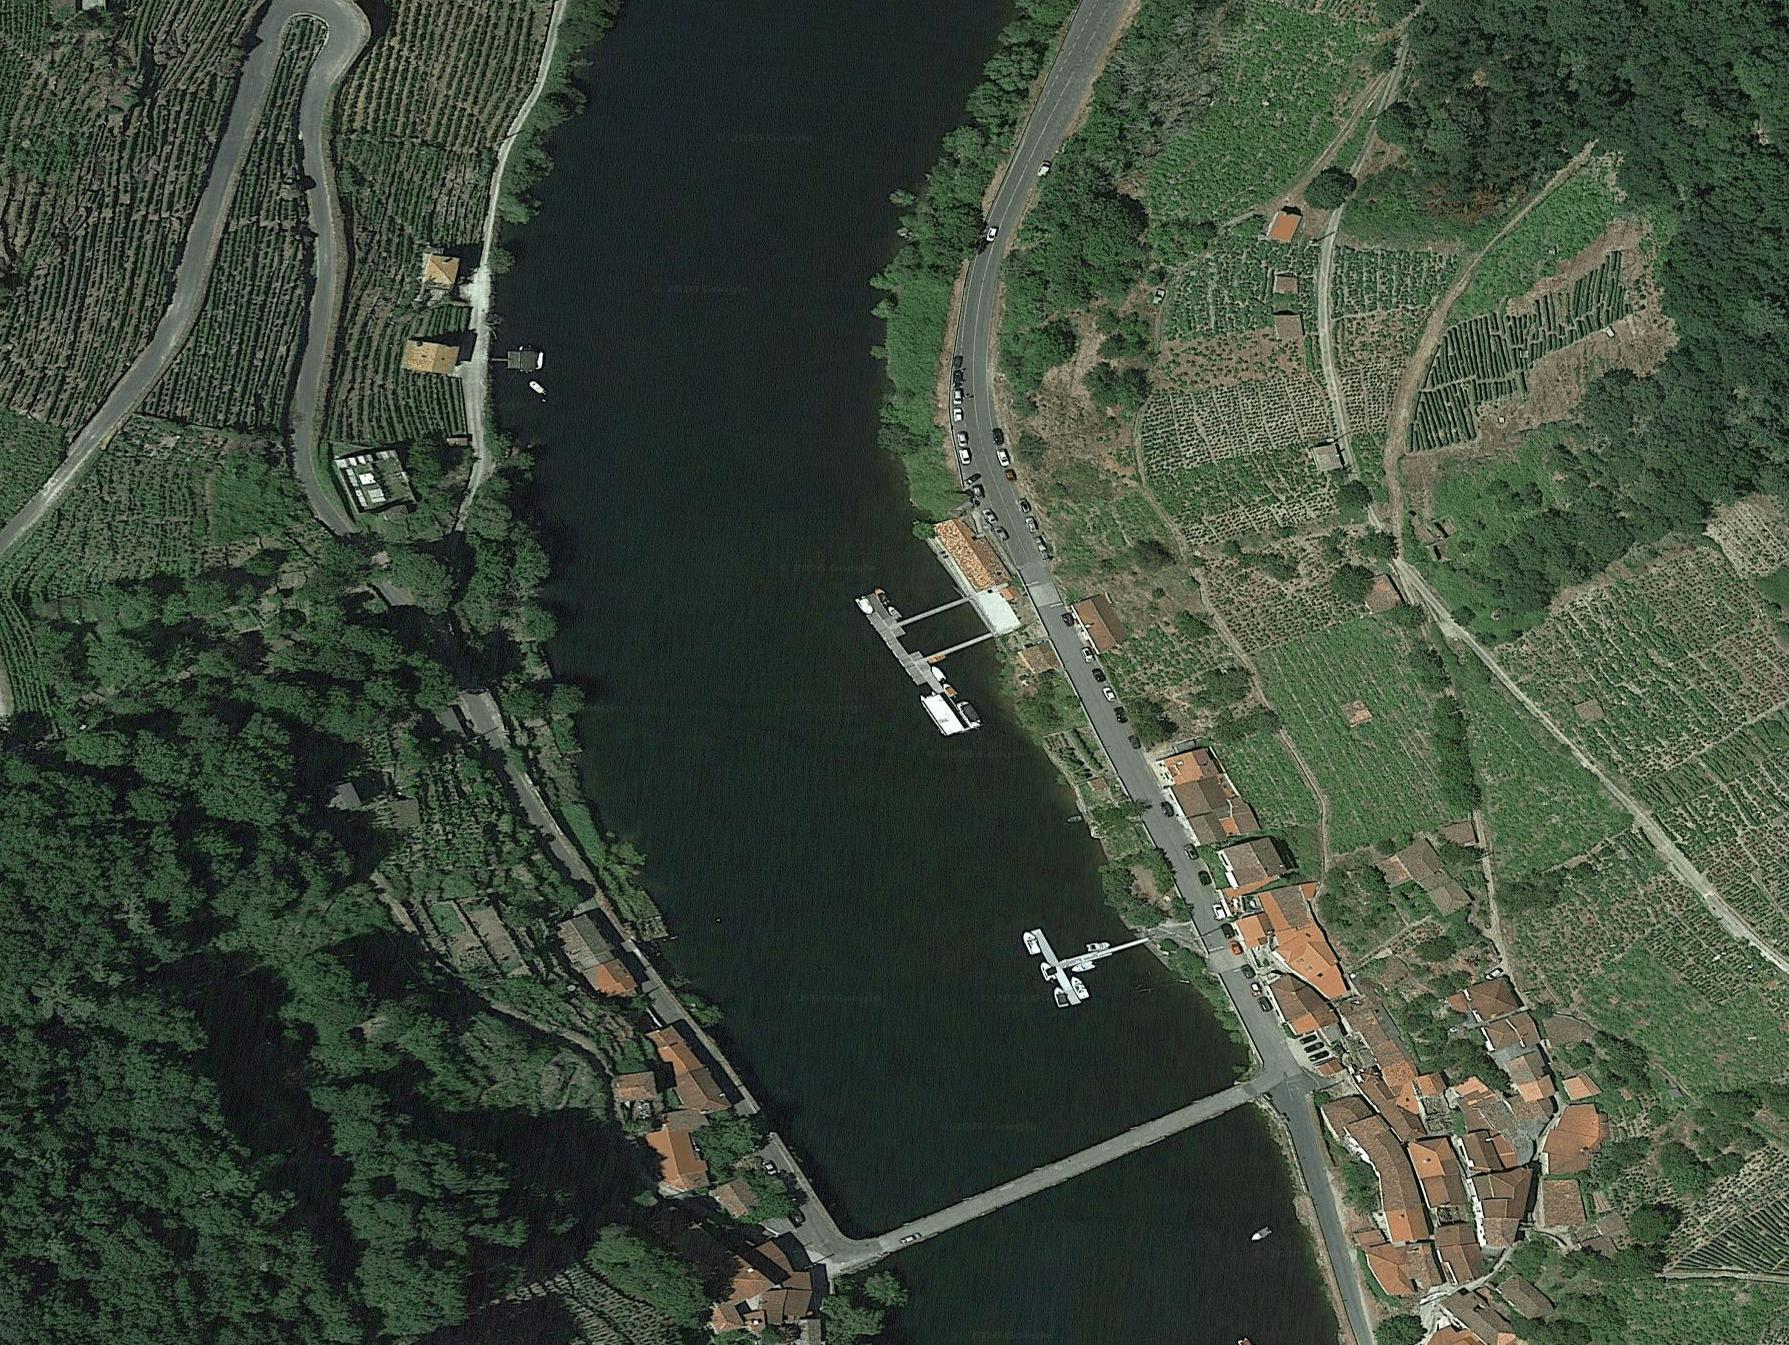bridge: (852, 1084, 1241, 1293)
harbor: (856, 574, 993, 739), (1017, 911, 1149, 1006), (475, 336, 555, 383)
